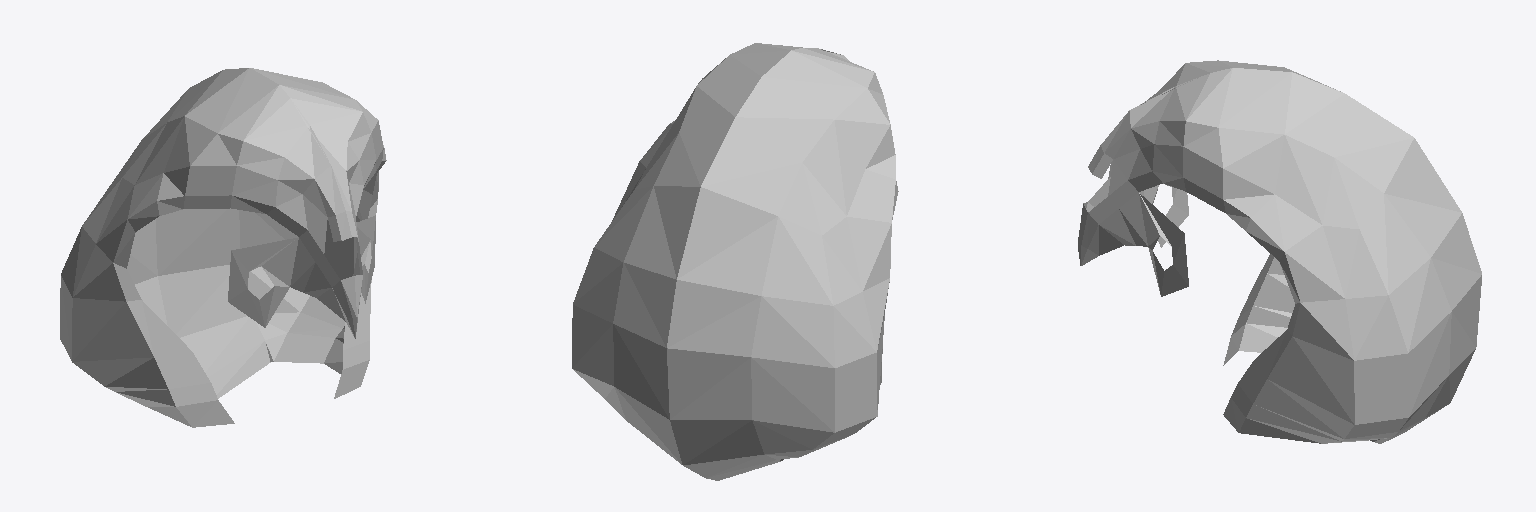
Rendered from horus_model.obj.
The picture shows the model from 3 angles: view 1: azimuth 30°, elevation 25°; view 2: azimuth 150°, elevation 25°; view 3: azimuth 270°, elevation 25°; orthographic projection.
Visible parts, largest first — view 1: Cube; view 2: Cube; view 3: Cube.
Part boxes in pixels (x1,y1,x2,y2): Cube: (60,68,386,427); Cube: (572,43,898,480); Cube: (1078,60,1481,443).
Size of the model in its own units: 2.56 by 3.14 by 3.06.